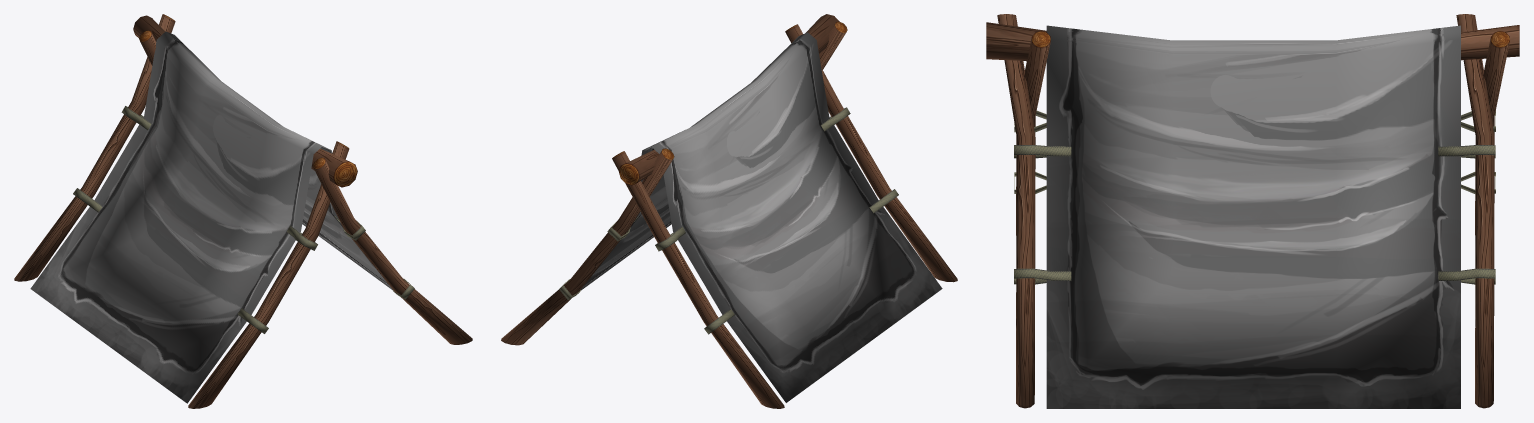
File: Tent.fbx
The picture shows the model from 3 angles, left to right: view 1: azimuth 30°, elevation 25°; view 2: azimuth 150°, elevation 25°; view 3: azimuth 270°, elevation 25°; orthographic projection. The views are drawn at different scales.
Visible parts, largest first — view 1: Tent; view 2: Tent; view 3: Tent.
Boxes of the visible parts, <box> form: Tent: <box>14,14,472,408</box>; Tent: <box>501,14,957,408</box>; Tent: <box>986,14,1519,408</box>.
Size of the model in its own units: 8.78 by 6.69 by 10.8.
